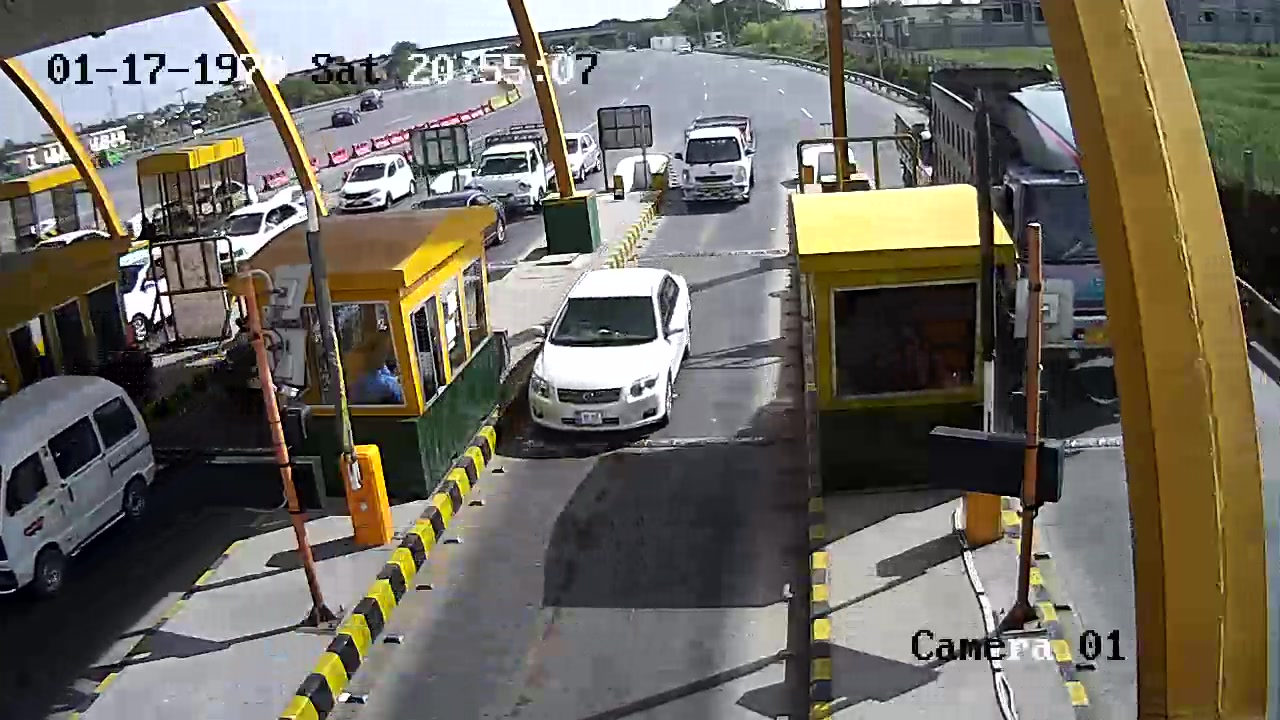F1: (527, 259, 707, 440)
